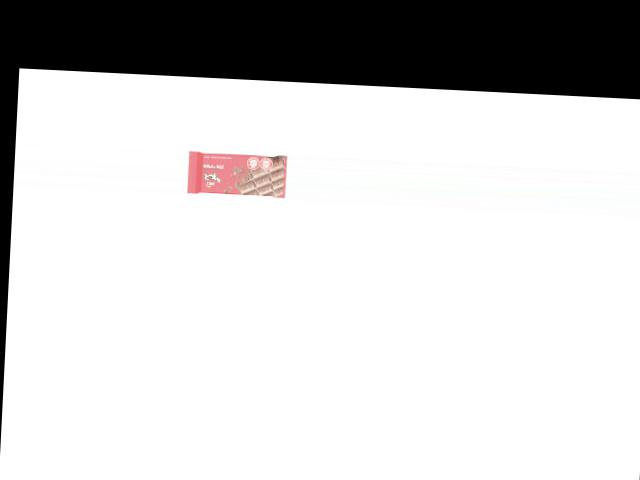chocolate: (185, 150, 287, 197)
